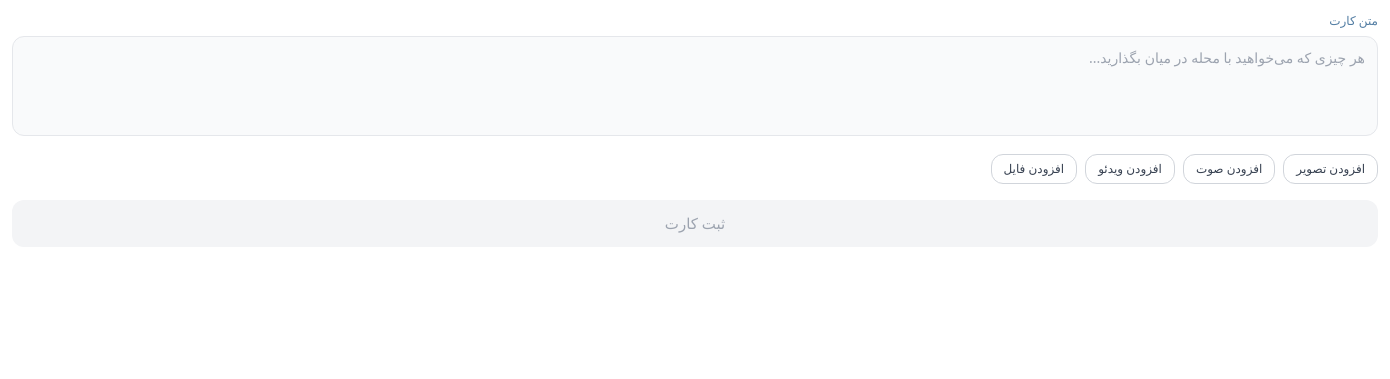
Test case: the suggestion is an offer, not a step › is not offered until there is something to suggest about
Expected: the button "پیشنهاد برای این متن" is not shown
Type "نردبان دارم" into the text box labelled "متن کارت" at [695, 86], box [12, 36, 1378, 136]
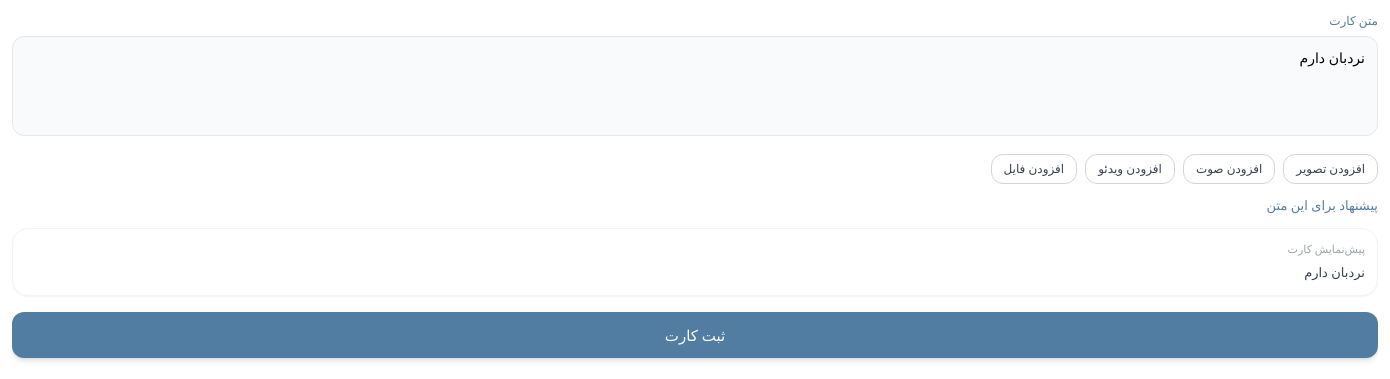
Expected: the button "پیشنهاد برای این متن" is shown, [1267, 196, 1378, 216]
